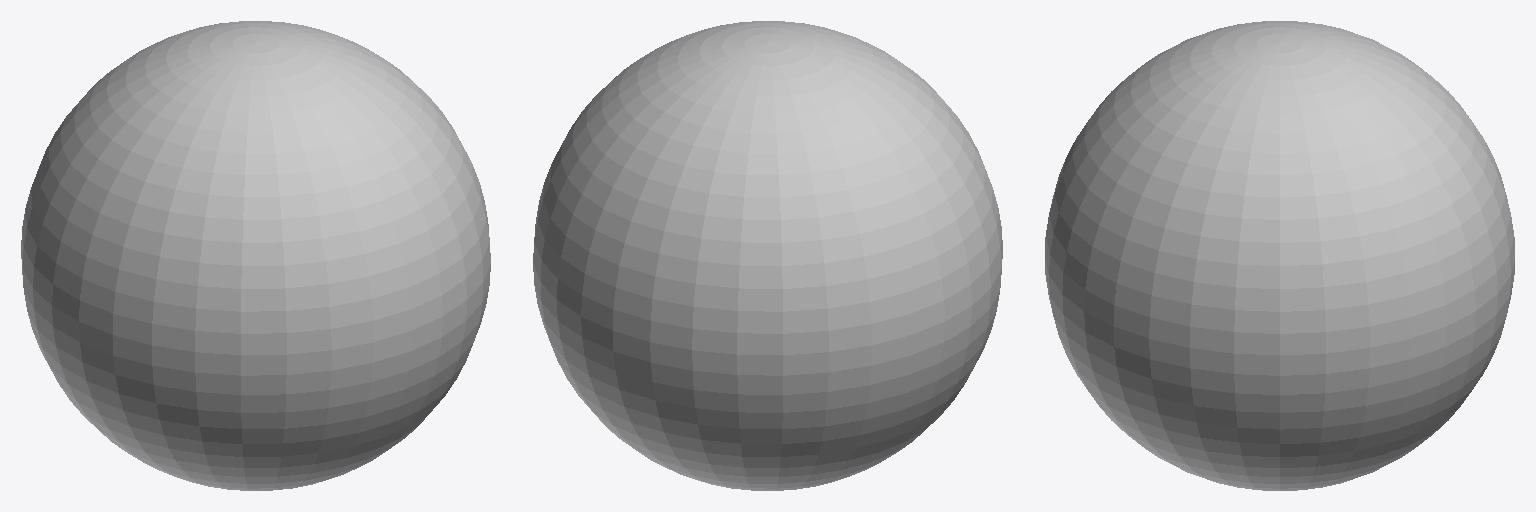
The model's file is kwsphere.obj.
3 views of the same model, side by side, from view 1: azimuth 30°, elevation 25°; view 2: azimuth 150°, elevation 25°; view 3: azimuth 270°, elevation 25° (orthographic).
Visible parts, largest first — view 1: KWSphere; view 2: KWSphere; view 3: KWSphere.
Boxes of the visible parts, box(x1,y1,x2,y2) form: KWSphere: box(21, 21, 490, 490); KWSphere: box(533, 21, 1002, 490); KWSphere: box(1045, 21, 1514, 490).
Bounding box in the file's own units: 1 × 1 × 1.